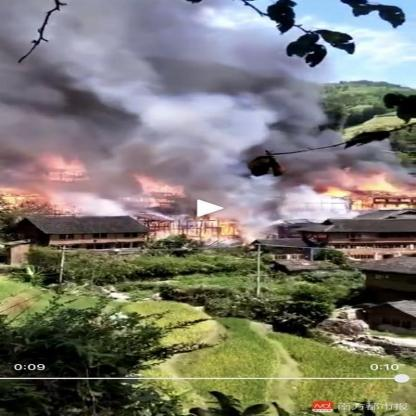fire: (303, 170, 405, 214), (190, 216, 270, 247), (23, 151, 89, 180), (127, 176, 191, 197), (3, 182, 41, 211)
smoke: (8, 5, 260, 179), (196, 33, 358, 172), (350, 133, 405, 170)
